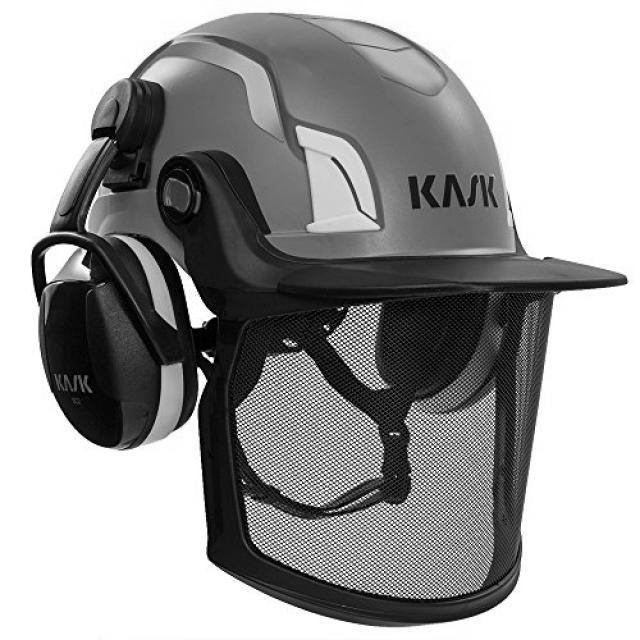safety_helmet: (79, 13, 626, 316)
